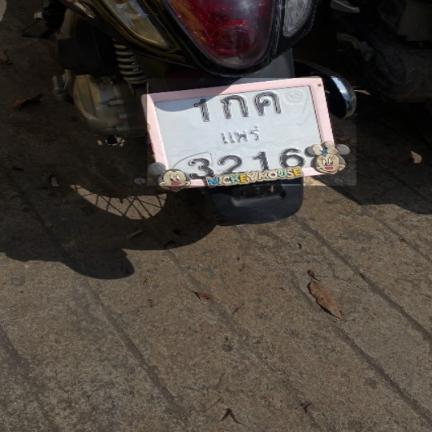1: (186, 99, 213, 122), (249, 150, 273, 171)
2: (216, 154, 244, 175)
3: (184, 156, 215, 179)
6: (276, 145, 308, 170)
A01: (219, 94, 250, 118)
A04: (253, 91, 284, 115)
PRE: (215, 124, 267, 145)
